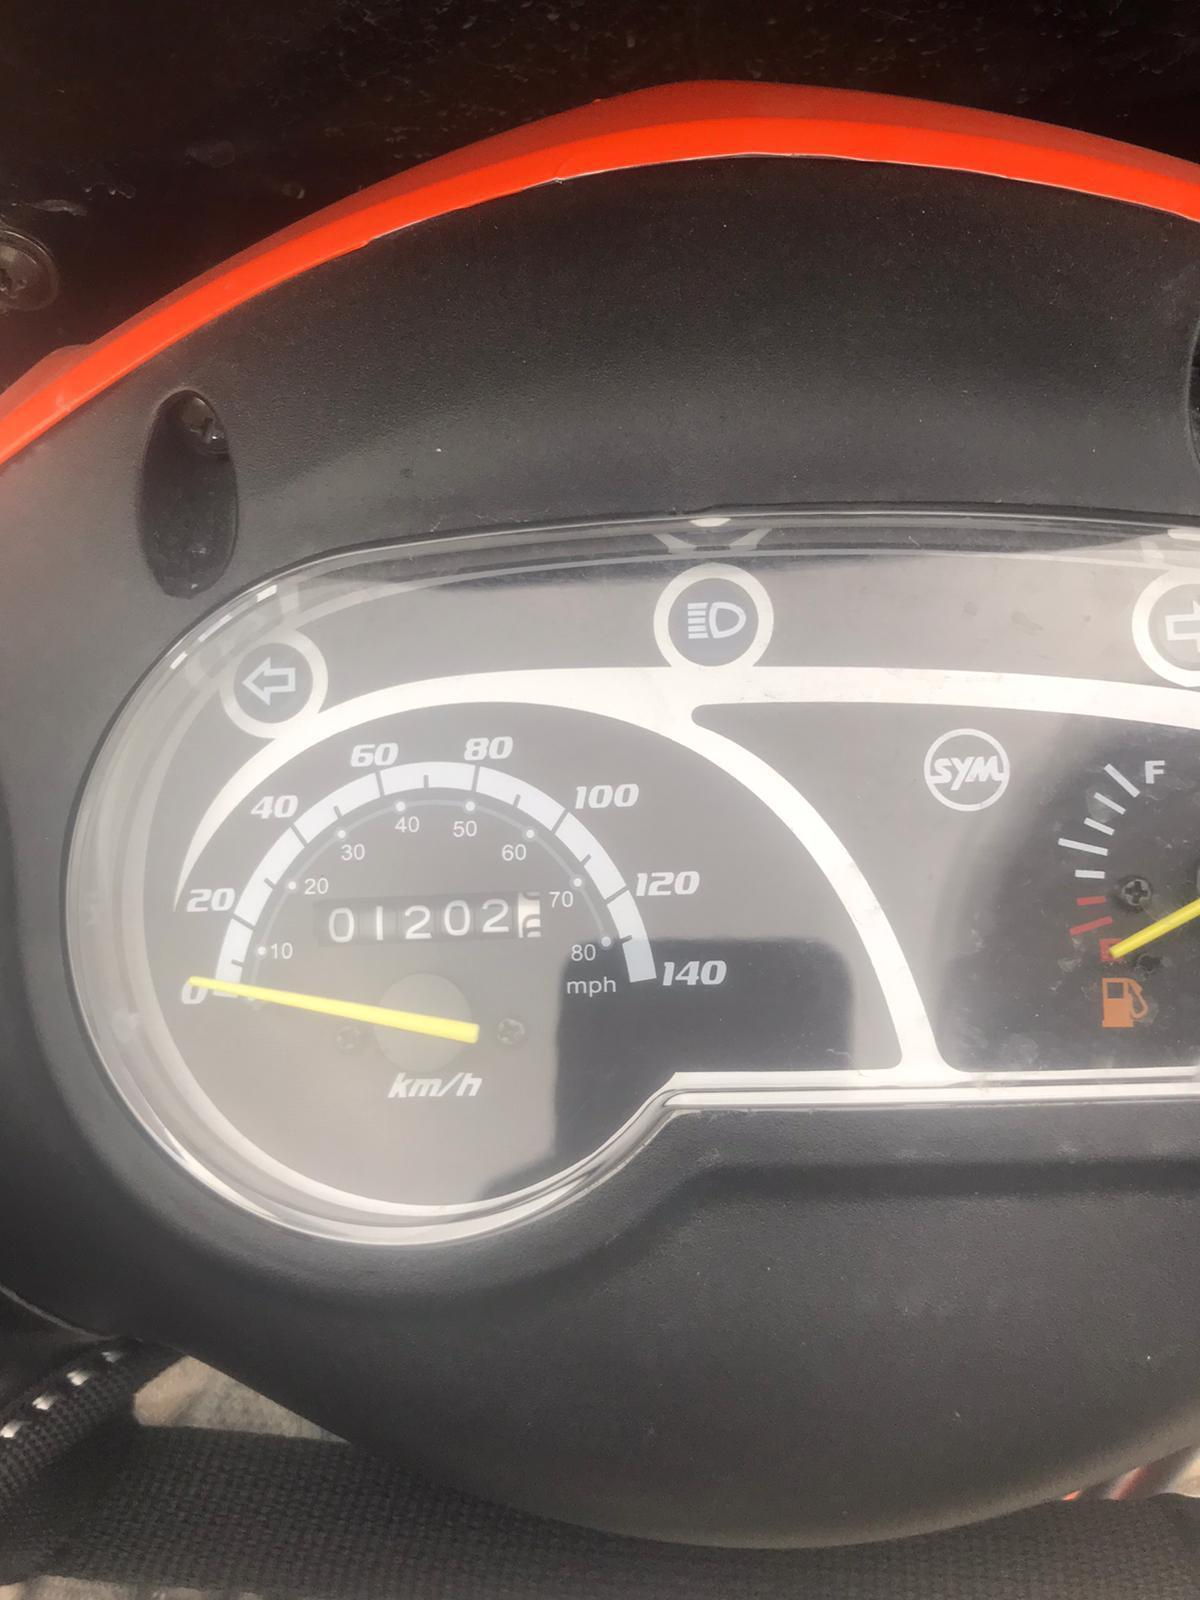0: (323, 902, 355, 944), (441, 897, 471, 939)
1: (368, 900, 389, 946)
2: (401, 901, 434, 944), (479, 897, 512, 936)
6: (521, 911, 546, 944)
odometer: (313, 893, 551, 947)
